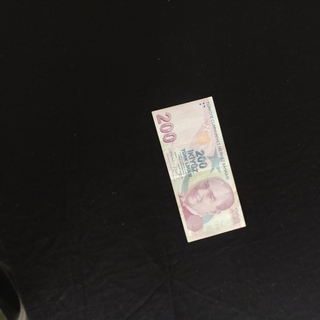200TLFront: (151, 96, 246, 242)
